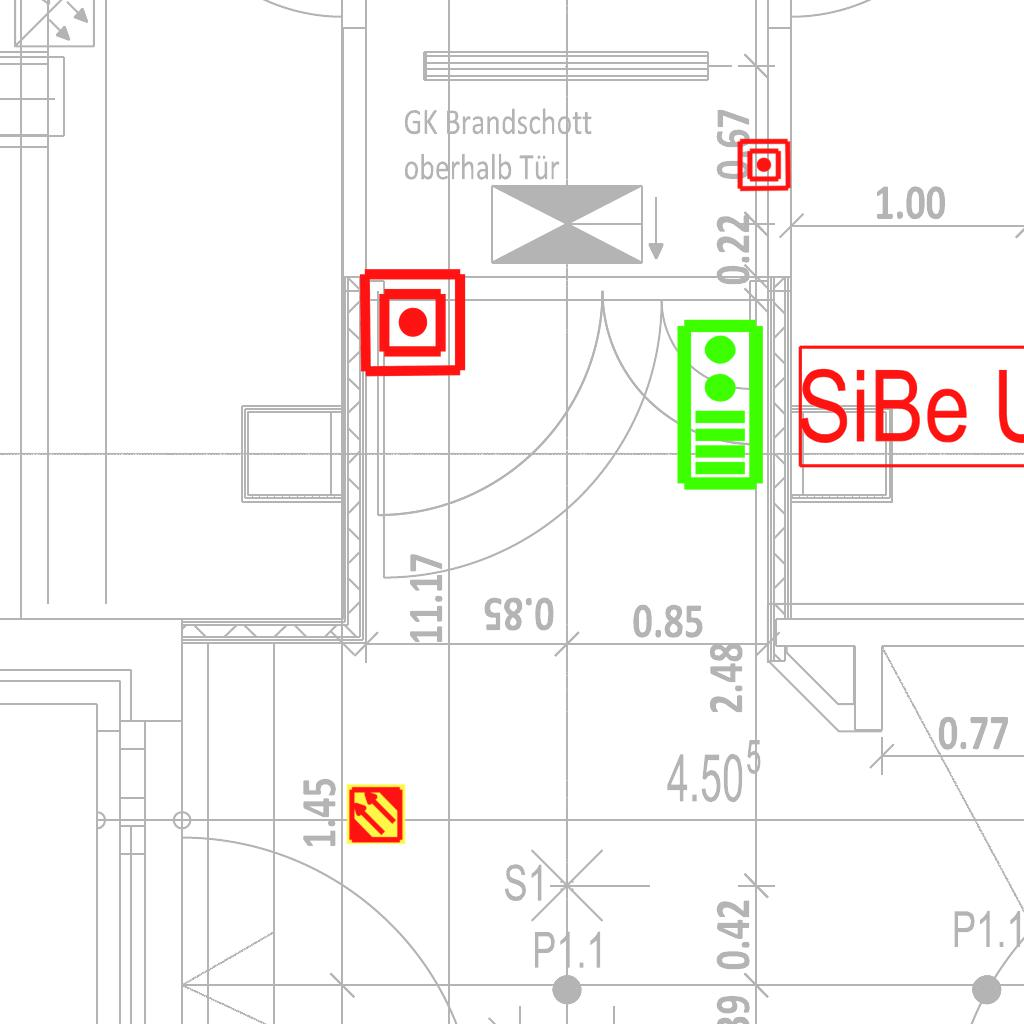ASR_Ansaugrauchmelder: (345, 783, 407, 845)
Gegensprechanlage_mit_Video: (671, 316, 766, 492)
NAM-Nichtautomatischer_Melder: (356, 266, 469, 379), (736, 137, 792, 193)
Zentrale_Sicherheitsbeleuchtung: (795, 342, 1024, 472)
